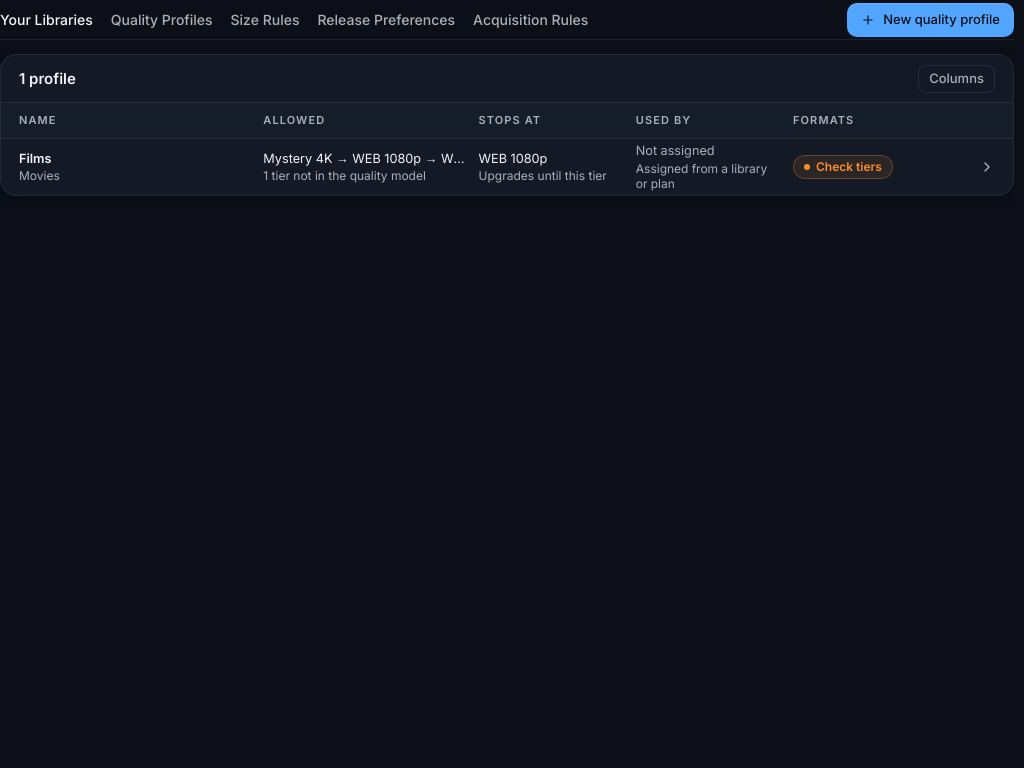
Test: Quality profile template and validation › choosing a template fills the name when empty, the tiers, the cutoff and the guide's own score guardrails, and saves them
Click the button "New quality profile" at (931, 20), box x1=847 y1=2 x2=1014 y2=36
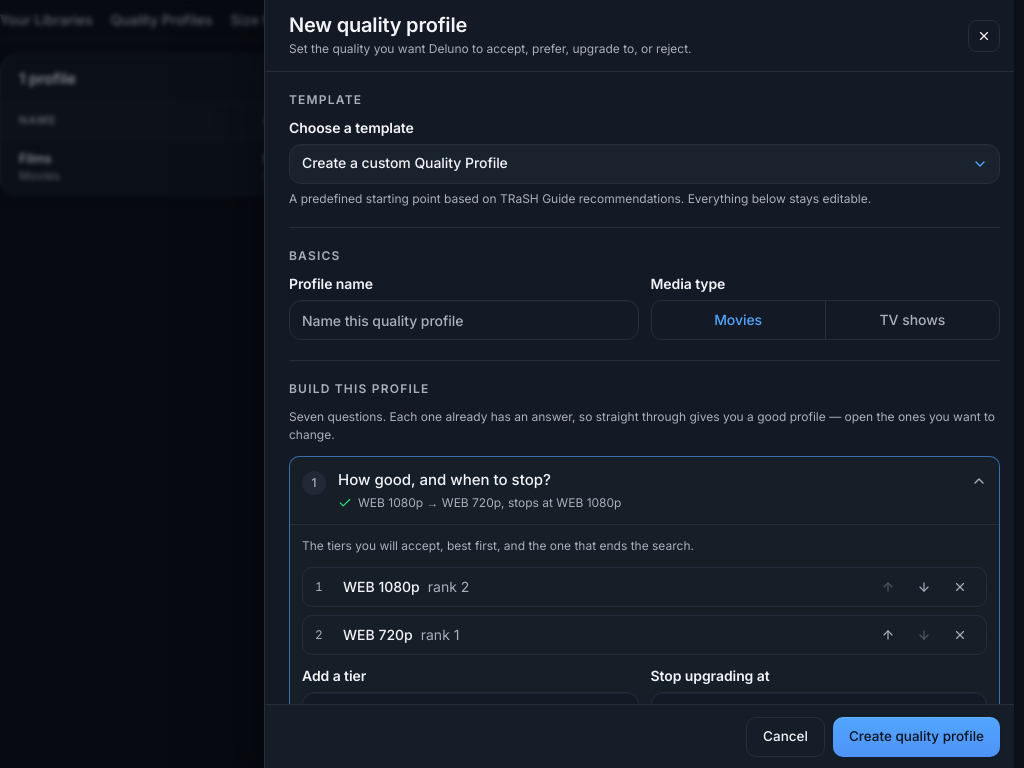
Select "Balanced · Movies" in the dropdown labelled "Choose a template" at (644, 164), box x1=289 y1=144 x2=1000 y2=184
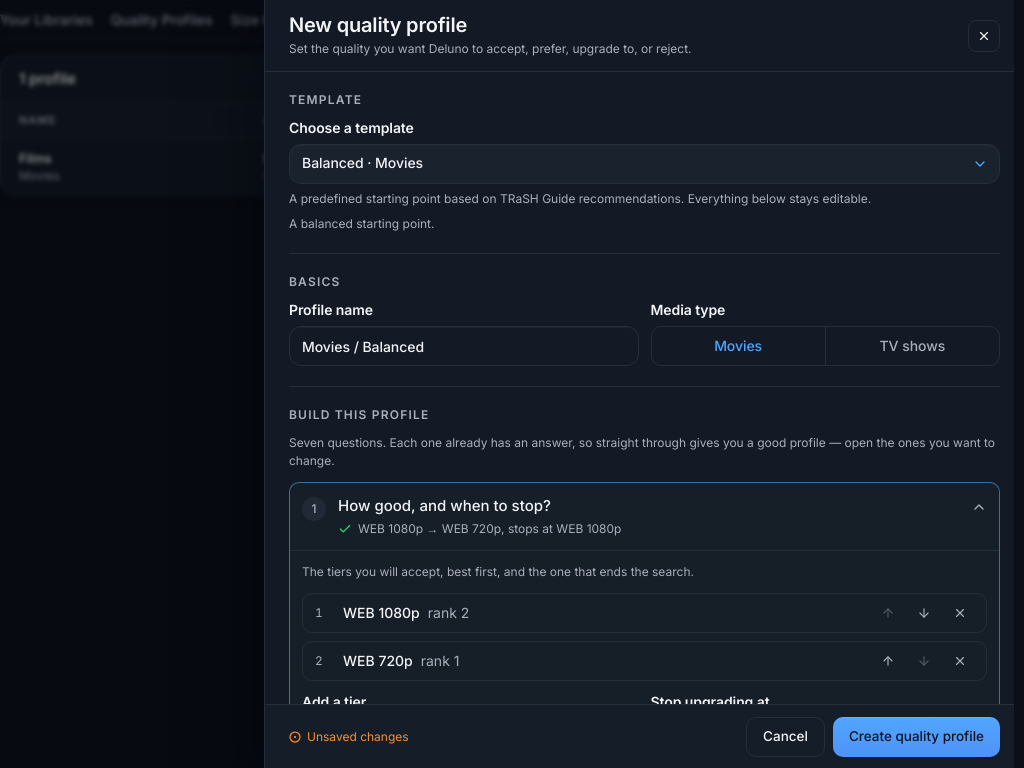
Result: the field with placeholder "Name this quality profile" holds "Movies / Balanced" at x1=289 y1=326 x2=638 y2=366
Click the button "Create quality profile" at (916, 736), box x1=833 y1=716 x2=1000 y2=756
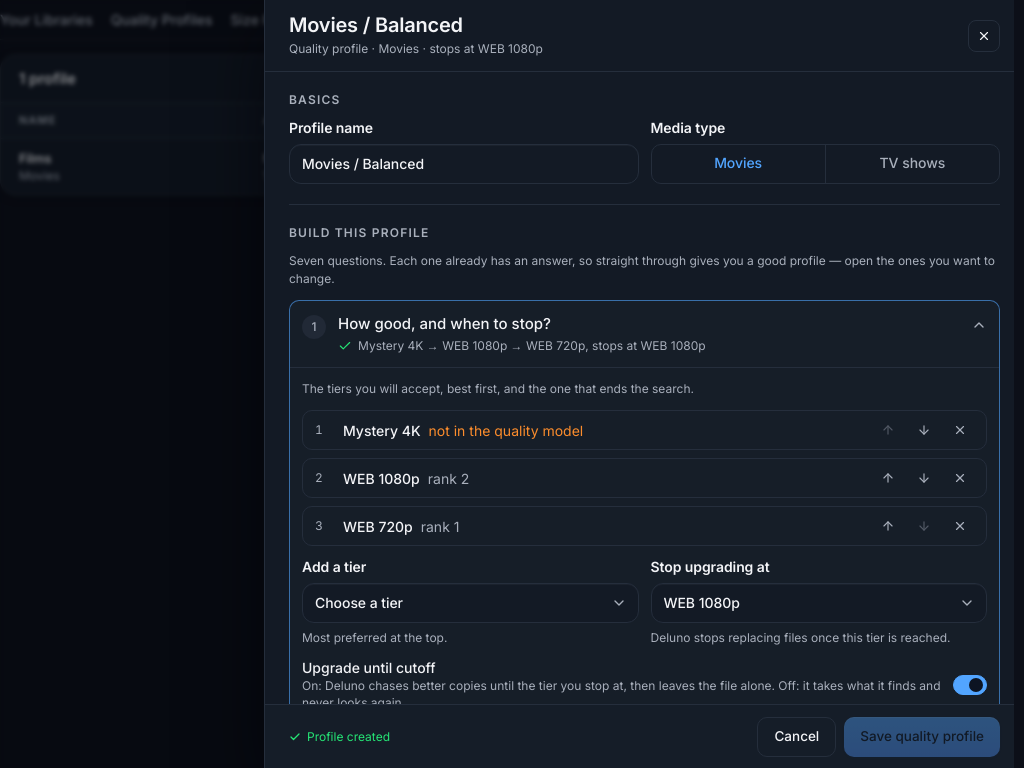
Result: the text "Profile created" is shown at x1=307 y1=728 x2=390 y2=746
